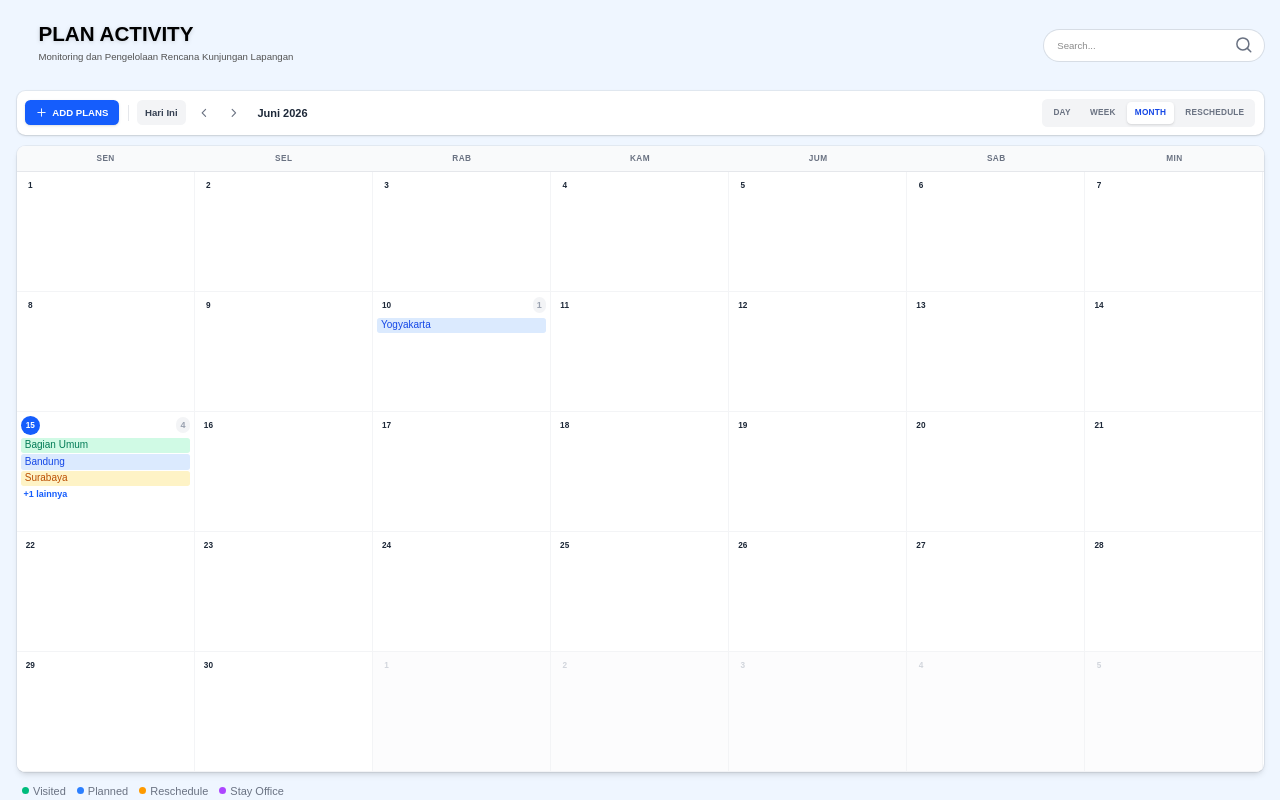
Test: PlanActivityPage — Navigasi kalender › tombol Next memajukan bulan, tombol Prev memundurkan bulan
The width and height of the screenshot is (1280, 800).
Click the 4th button.
click(234, 113)  # box [222,100,246,125]
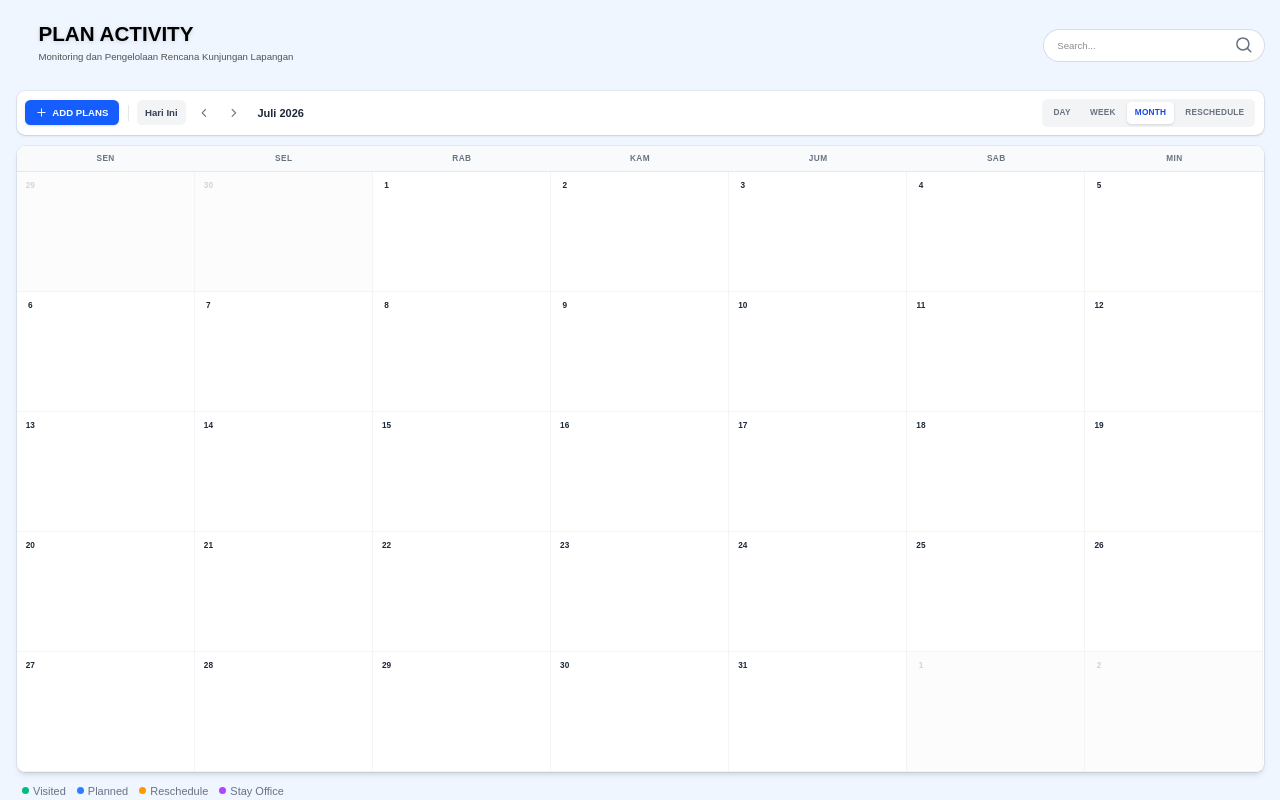
Expected: the heading "Juli 2026" is shown, [257,104,304,121]
Click the 3rd button.
click(204, 113)  # box [191,100,216,125]
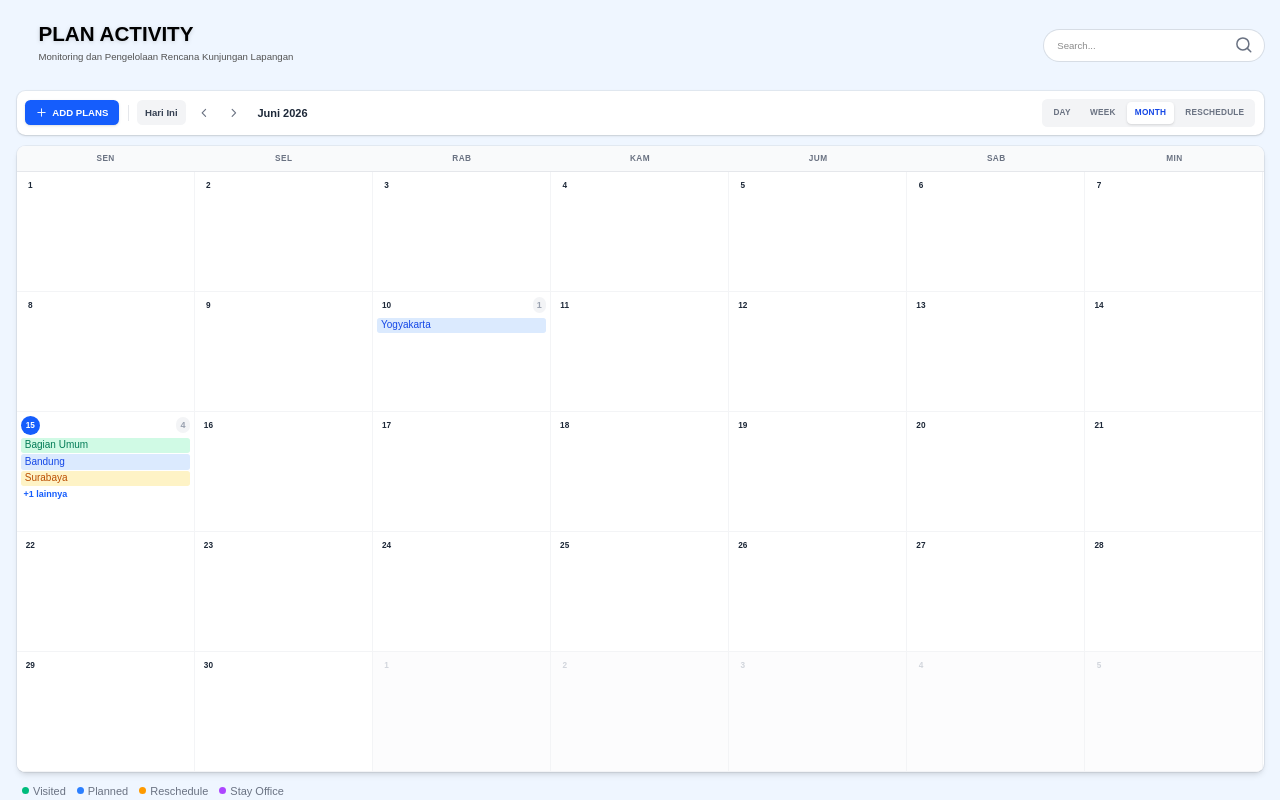
Click the 3rd button.
click(204, 113)  # box [191,100,216,125]
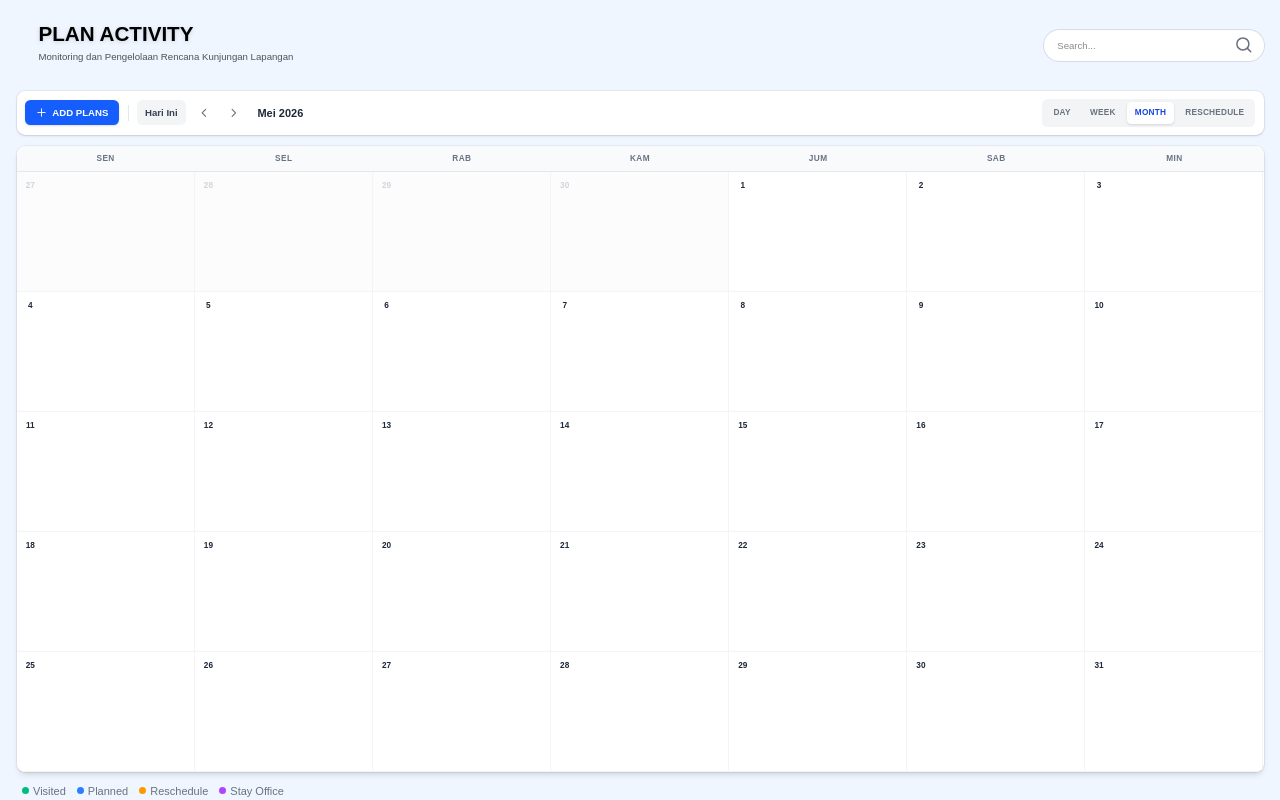
Expected: the heading "Mei 2026" is shown, [257,104,303,121]
